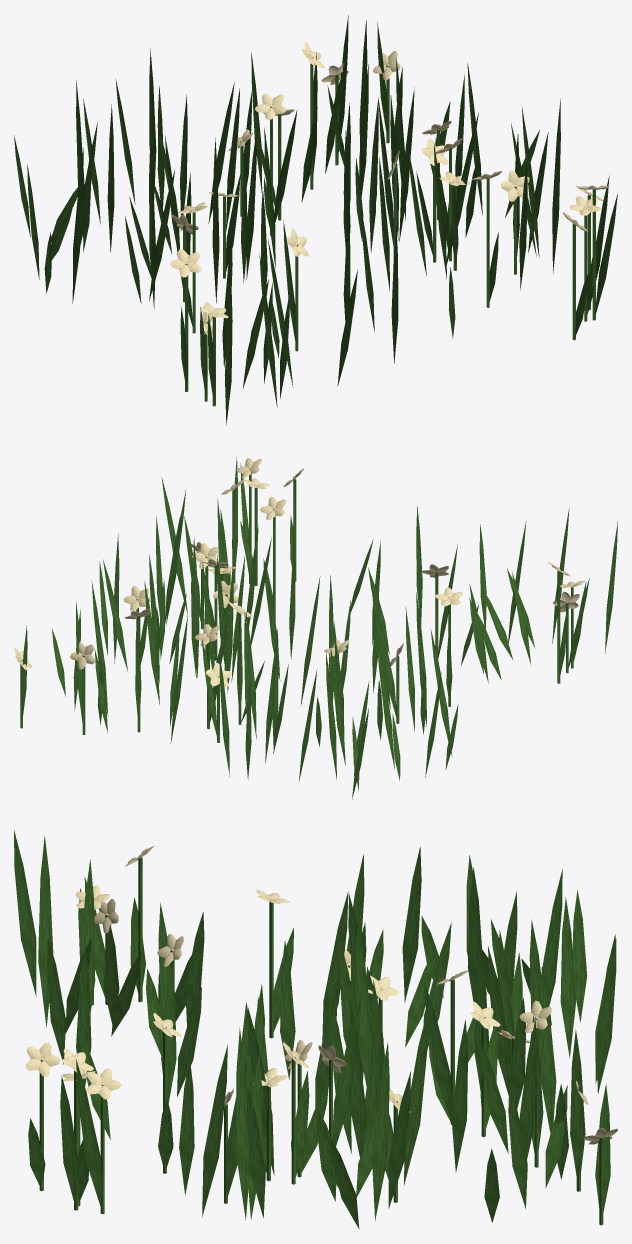
Rendered from meadow_flowers.glb.
The picture shows the model from 3 angles, top to bottom: view 1: azimuth 30°, elevation 25°; view 2: azimuth 150°, elevation 25°; view 3: azimuth 270°, elevation 25°; orthographic projection. The views are drawn at different scales.
Visible parts, largest first — view 1: meadow_flowers_Foliage; view 2: meadow_flowers_Foliage; view 3: meadow_flowers_Foliage.
Part boxes in pixels (x1,y1,x2,y2): meadow_flowers_Foliage: [14, 15, 617, 425]; meadow_flowers_Foliage: [14, 457, 617, 799]; meadow_flowers_Foliage: [14, 830, 617, 1228].
Size of the model in its own units: 1.14 by 0.3941 by 1.17.
1 material, 1 textured.
